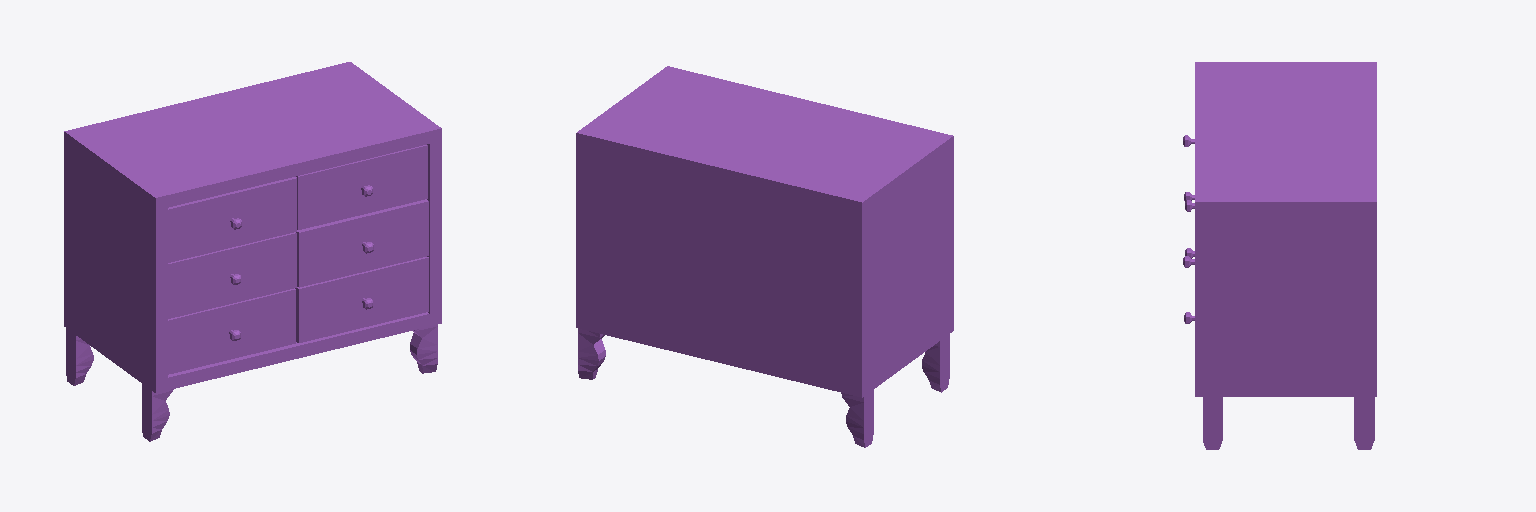
The model's file is commode.obj.
The picture shows the model from 3 angles: view 1: azimuth 30°, elevation 25°; view 2: azimuth 150°, elevation 25°; view 3: azimuth 270°, elevation 25°; orthographic projection.
Visible parts, largest first — view 1: commode1; view 2: commode1; view 3: commode1.
Part boxes in pixels (bbox=[...]): commode1: bbox=[64, 62, 441, 441]; commode1: bbox=[576, 66, 953, 447]; commode1: bbox=[1183, 62, 1376, 449].
Bounding box in the file's own units: 100 × 82.77 × 58.89.